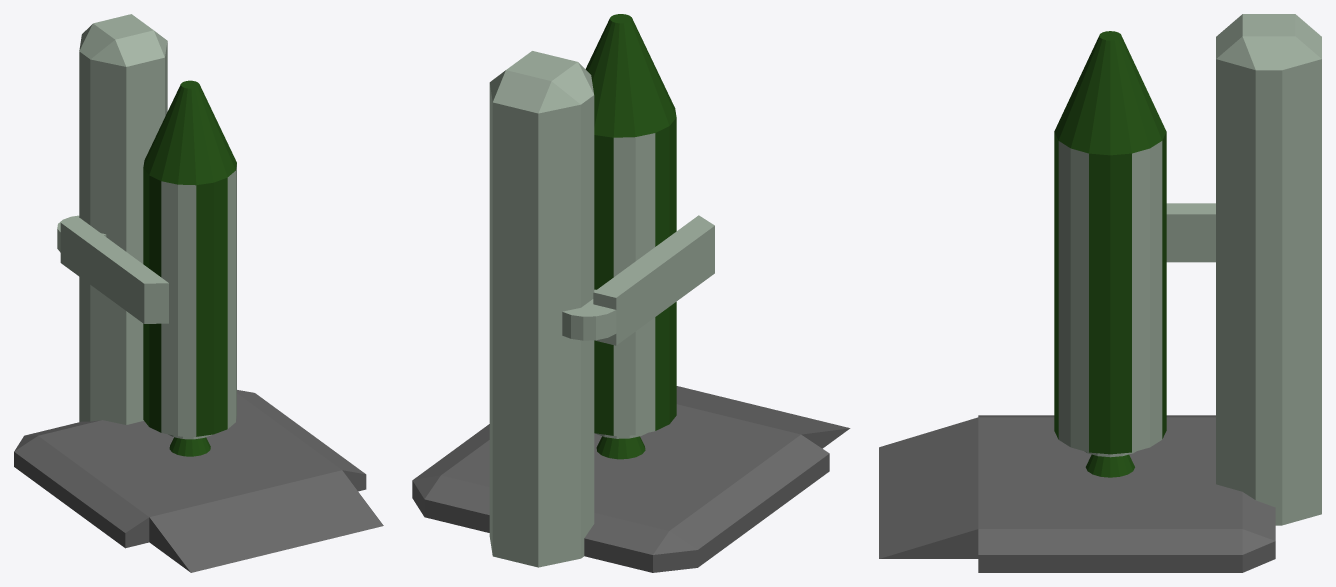
File: space_rocket_launcher_1.ywq4vovl.glb
3 renders of one model, left to right at view 1: azimuth 30°, elevation 25°; view 2: azimuth 150°, elevation 25°; view 3: azimuth 270°, elevation 25°, orthographic. The views are drawn at different scales.
Visible parts, largest first — view 1: plattform, Cone, Cube.001, Cube.002, Cone.001; view 2: Cube.001, plattform, Cone, Cube.002, Cylinder.001, Cone.001; view 3: Cube.001, plattform, Cone, Cube.002, Cone.001.
Boxes of the visible parts, x1,y1,x2,y2 form: plattform: [14, 390, 383, 572]; Cone: [143, 80, 236, 436]; Cube.001: [79, 14, 167, 424]; Cube.002: [60, 218, 168, 323]; Cone.001: [169, 437, 210, 456]; Cube.001: [489, 51, 594, 567]; plattform: [412, 386, 850, 572]; Cone: [585, 14, 676, 435]; Cube.002: [593, 215, 714, 345]; Cylinder.001: [562, 289, 616, 340]; Cone.001: [596, 436, 645, 459]; Cube.001: [1216, 14, 1321, 525]; plattform: [879, 415, 1275, 572]; Cone: [1054, 31, 1166, 454]; Cube.002: [1166, 203, 1215, 262]; Cone.001: [1085, 454, 1134, 477].
Bounding box in the file's own units: 1.25 × 1.99 × 1.68.
